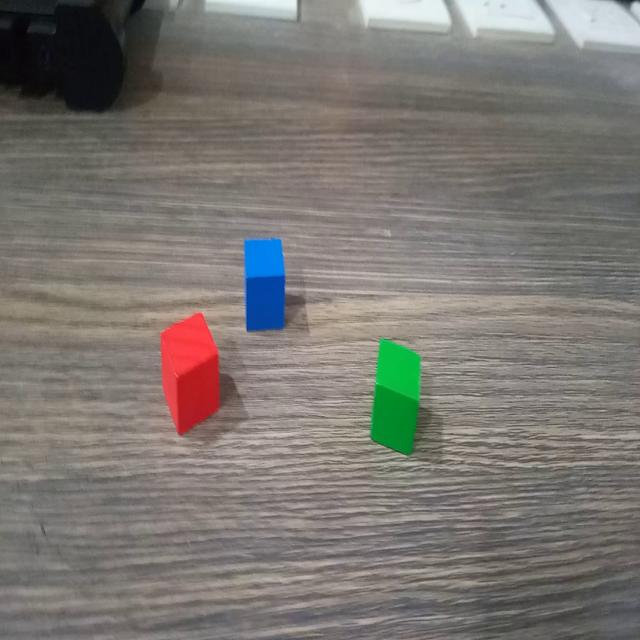cube: (158, 309, 222, 438), (368, 333, 424, 459), (239, 235, 289, 337)
